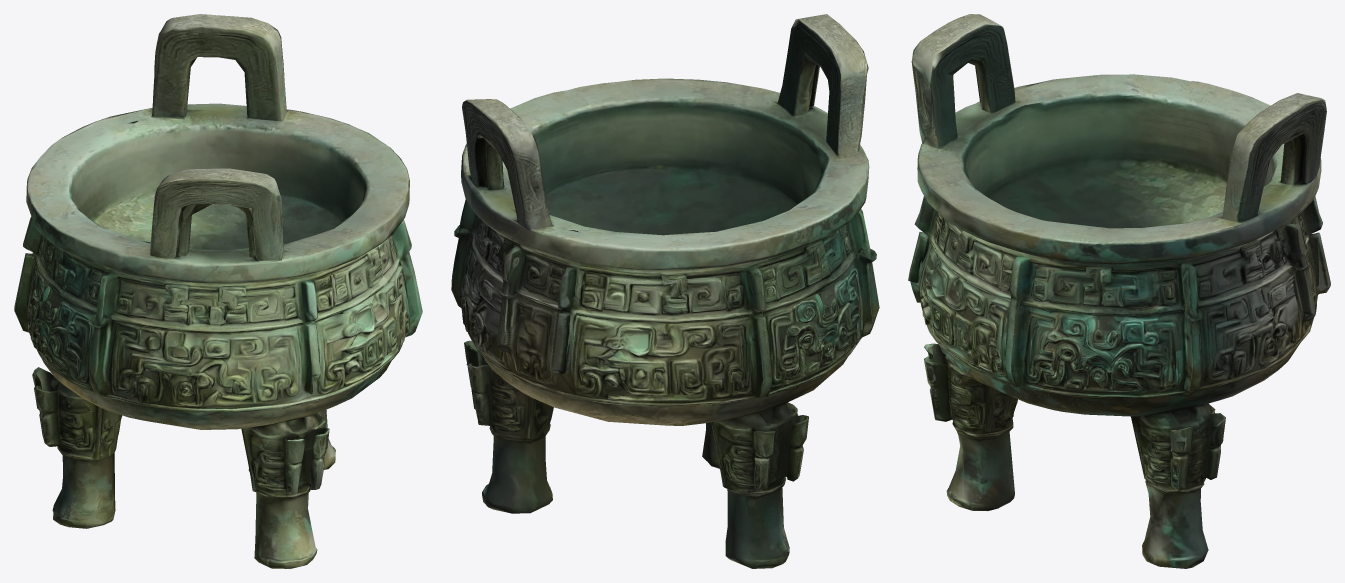
File: ding-high.glb
The picture shows the model from 3 angles, left to right: view 1: azimuth 30°, elevation 25°; view 2: azimuth 150°, elevation 25°; view 3: azimuth 270°, elevation 25°; orthographic projection. The views are drawn at different scales.
Bounding box in the file's own units: 0.8498 × 0.9994 × 0.889.
1 material, 1 textured.
